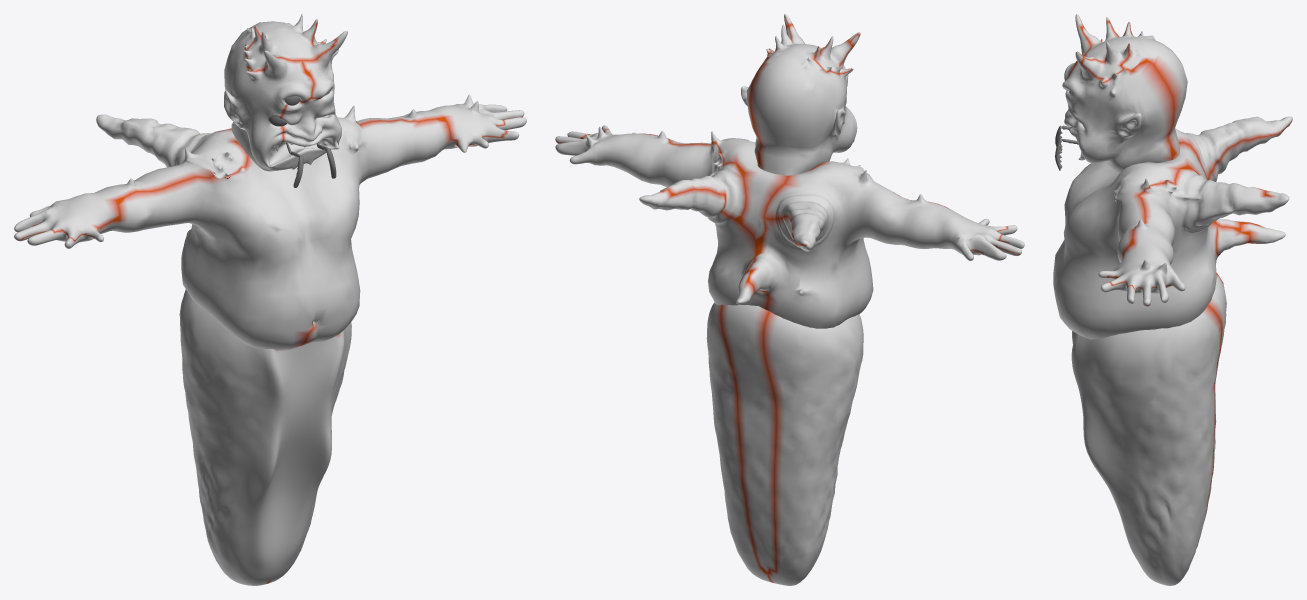
The model's file is BABYMONSTSR2_LP.fbx.
The picture shows the model from 3 angles, left to right: view 1: azimuth 30°, elevation 25°; view 2: azimuth 150°, elevation 25°; view 3: azimuth 270°, elevation 25°; orthographic projection. The views are drawn at different scales.
Visible parts, largest first — view 1: BABYMONSTSR2_SeamsColor; view 2: BABYMONSTSR2_SeamsColor; view 3: BABYMONSTSR2_SeamsColor.
Boxes of the visible parts, <box> form: BABYMONSTSR2_SeamsColor: <box>14,14,526,585</box>; BABYMONSTSR2_SeamsColor: <box>555,14,1024,585</box>; BABYMONSTSR2_SeamsColor: <box>1053,14,1292,585</box>.
Bounding box in the file's own units: 9.13 × 9.94 × 3.92.
